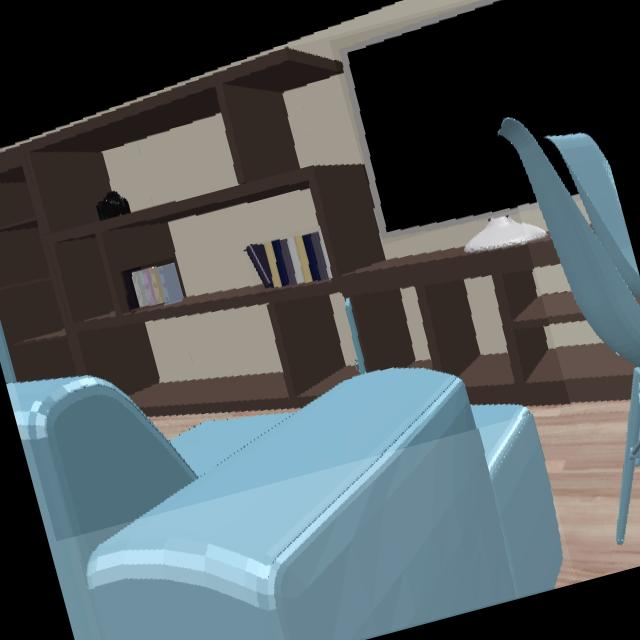book: (245, 231, 330, 288), (122, 264, 183, 310)
chair: (499, 118, 640, 545)
laptop: (341, 0, 606, 232)
shelf: (0, 48, 627, 414)
sofa: (6, 368, 560, 640)
